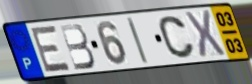6: (95, 20, 128, 68)
B: (57, 22, 97, 72)
C: (158, 14, 198, 60)
E: (29, 24, 73, 75)
I: (125, 15, 151, 66)
X: (182, 9, 228, 61)
